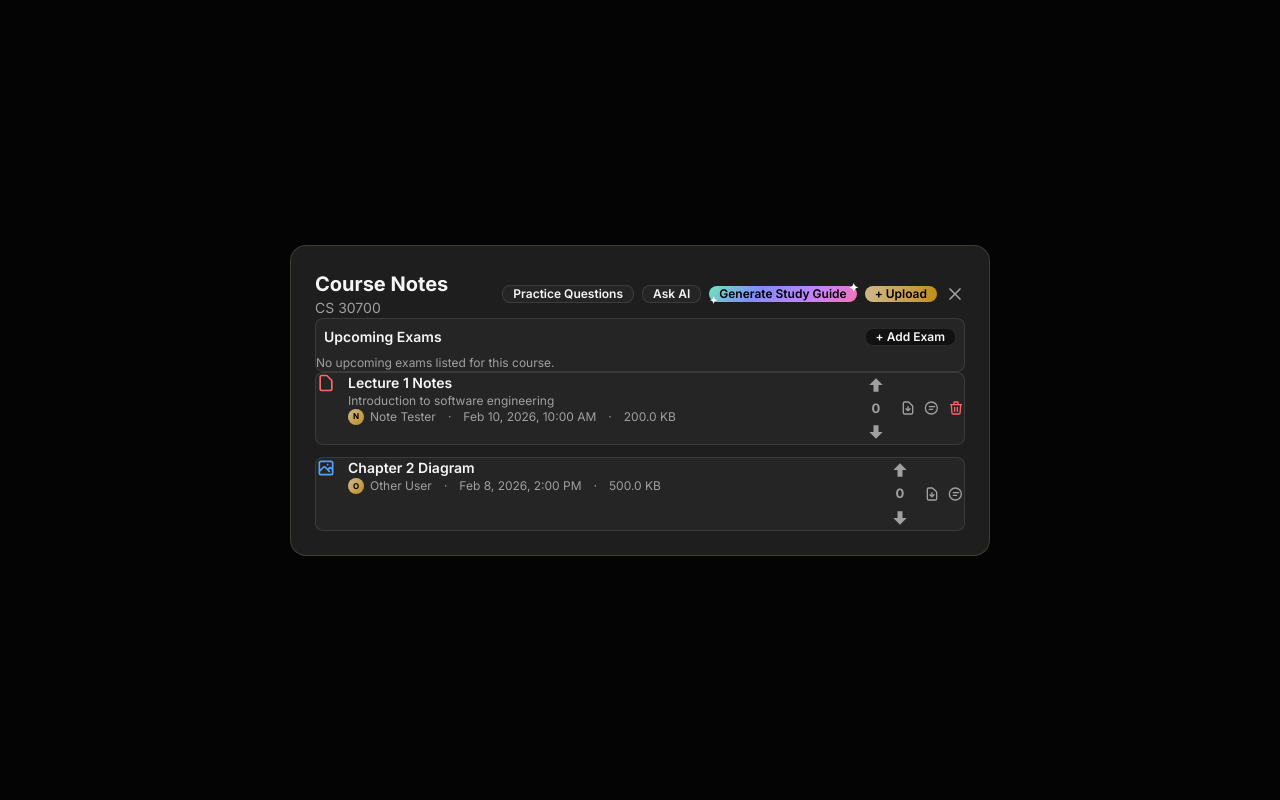
Test: CourseNotes — Comment Toggle › expands comment section when comment button is clicked
This screenshot has width=1280, height=800.
Expected: the heading "Lecture 1 Notes" is shown, [348,374,452,390]
Click the button titled "Comments" in the row of "200.0 KB".
click(932, 408)  # box [924,400,940,416]
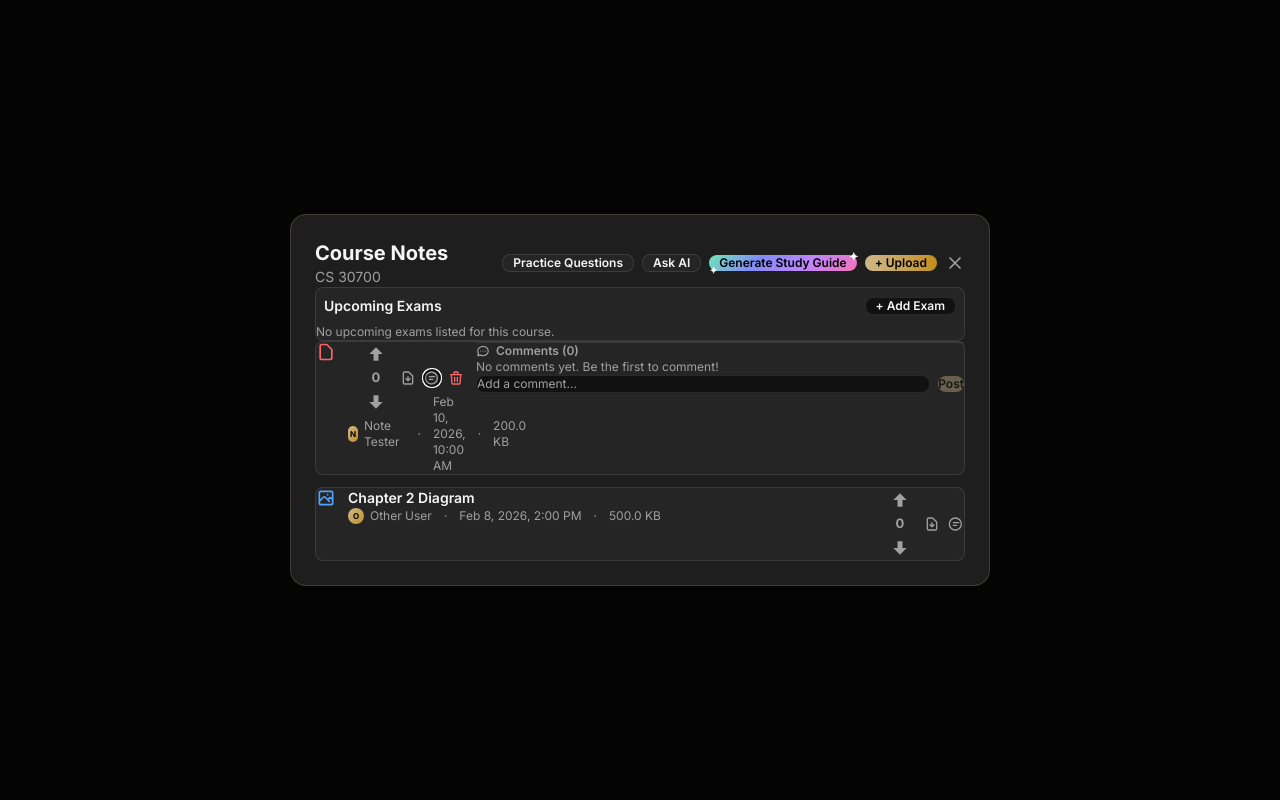
Now the text "No comments yet. Be the first to comment!" is shown, box [476,359,719,374]
Now the field with placeholder "Add a comment..." is shown, box [476,375,930,393]
